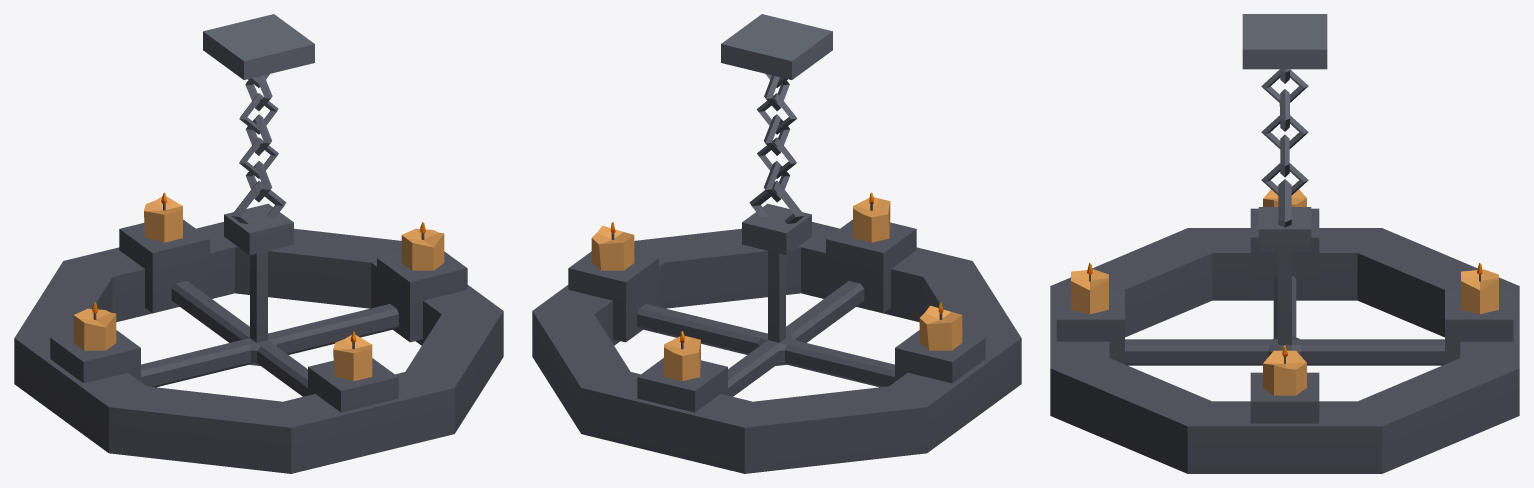
File: Lantern_05.fbx
The picture shows the model from 3 angles, left to right: view 1: azimuth 30°, elevation 25°; view 2: azimuth 150°, elevation 25°; view 3: azimuth 270°, elevation 25°; orthographic projection. The views are drawn at different scales.
Parts seen in each view (by area): view 1: Lantern_05; view 2: Lantern_05; view 3: Lantern_05.
Boxes of the visible parts, left/top/right/bottom form: Lantern_05: left=14, top=14, right=503, bottom=473; Lantern_05: left=532, top=14, right=1021, bottom=473; Lantern_05: left=1050, top=14, right=1519, bottom=473.
Size of the model in its own units: 1.14 by 0.915 by 1.14.
